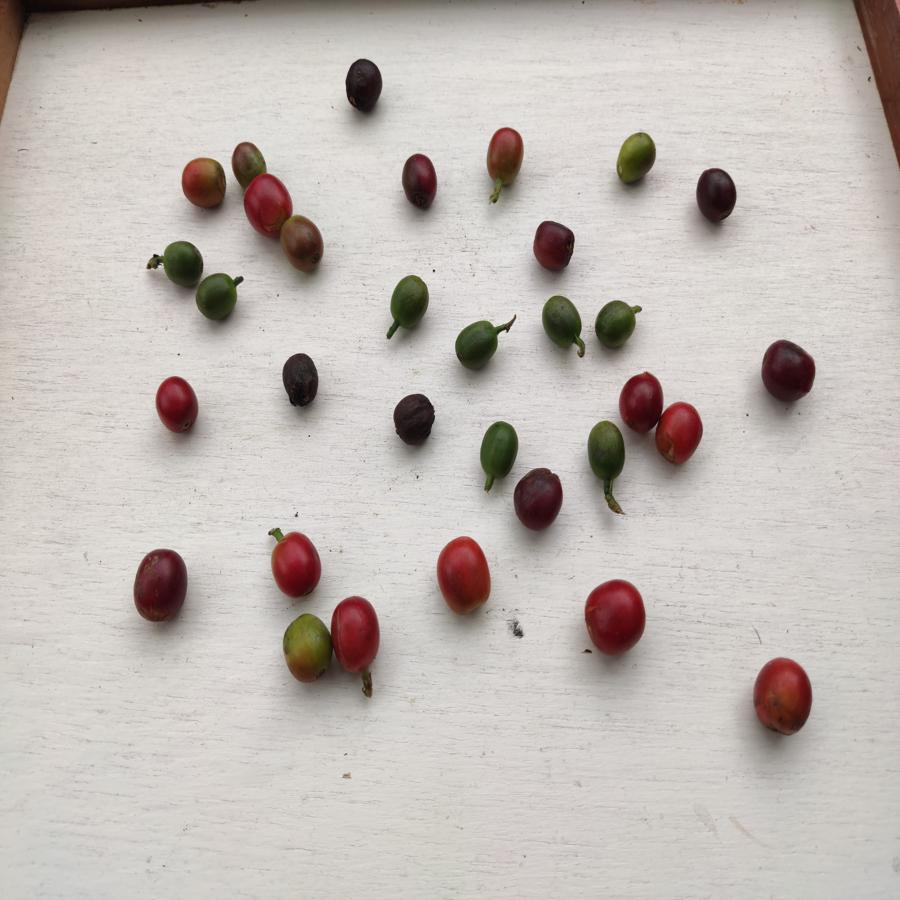Inmaduro: (540, 287, 585, 355), (615, 128, 662, 188), (585, 417, 627, 484), (157, 235, 207, 285), (196, 275, 245, 324), (479, 418, 518, 479), (455, 319, 501, 369), (388, 274, 429, 328), (593, 299, 638, 348)
Maduro: (752, 650, 816, 739), (578, 580, 652, 654), (433, 539, 498, 617), (262, 523, 326, 602), (334, 594, 385, 683), (484, 125, 529, 188), (245, 174, 292, 234), (658, 402, 702, 466), (622, 371, 664, 435)
Pinton: (280, 607, 334, 688), (181, 152, 230, 216), (285, 215, 324, 278), (227, 141, 270, 180)
Sobremaduro: (134, 545, 191, 625), (758, 335, 814, 406), (512, 467, 567, 532), (389, 392, 439, 450), (530, 218, 580, 275), (155, 373, 200, 433), (698, 169, 738, 232), (343, 60, 386, 115), (398, 152, 440, 208), (279, 354, 319, 408)
